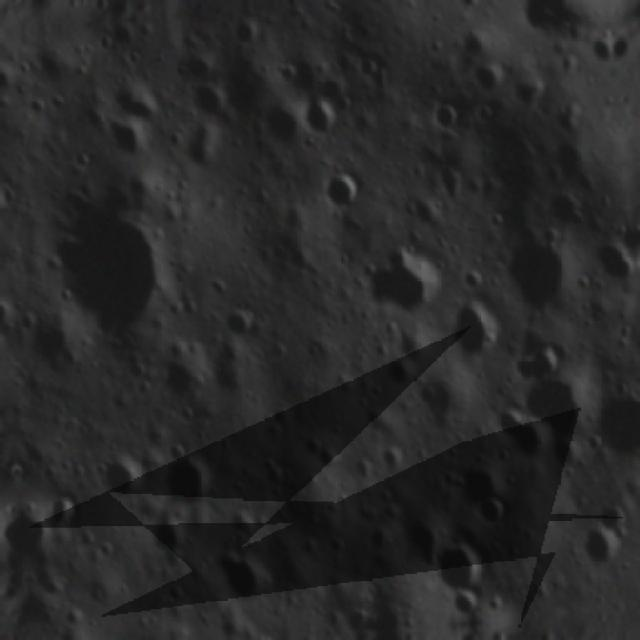crater: (35, 192, 183, 348), (490, 229, 578, 313), (514, 374, 594, 458), (363, 246, 435, 322), (421, 540, 493, 608), (205, 538, 272, 610), (440, 300, 505, 371), (591, 381, 640, 464), (84, 447, 147, 511), (518, 0, 591, 54), (155, 454, 216, 514), (148, 508, 198, 578), (567, 519, 624, 579), (538, 181, 597, 236), (495, 344, 560, 390), (588, 236, 638, 287), (325, 166, 372, 220), (296, 99, 350, 146), (100, 110, 146, 165), (466, 487, 517, 535), (157, 352, 201, 403), (192, 79, 230, 133), (422, 100, 466, 138), (508, 79, 542, 127), (219, 306, 258, 346), (456, 28, 492, 60), (470, 64, 501, 98), (472, 101, 502, 132)
